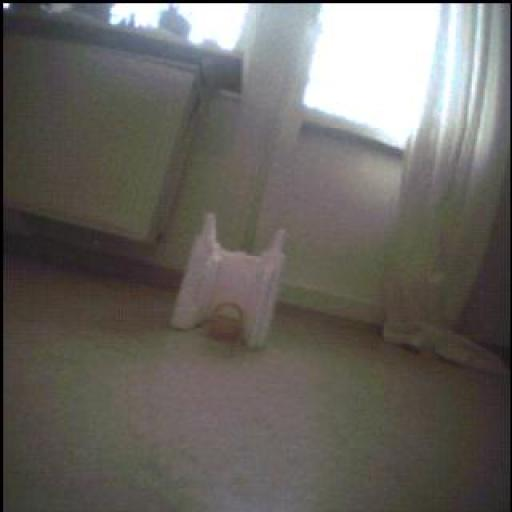Basket: (208, 304, 245, 344)
